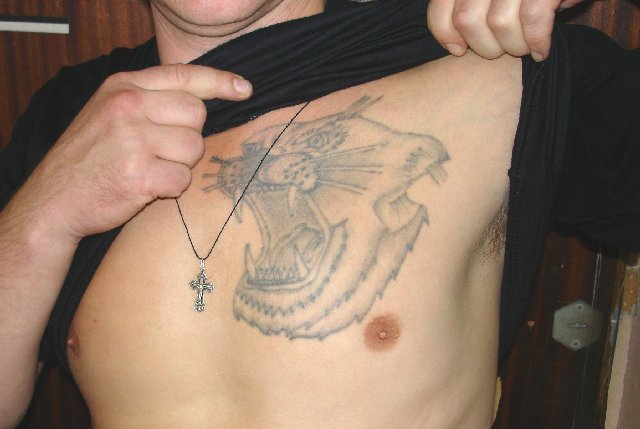tatu5_tigr: (214, 103, 454, 333)
